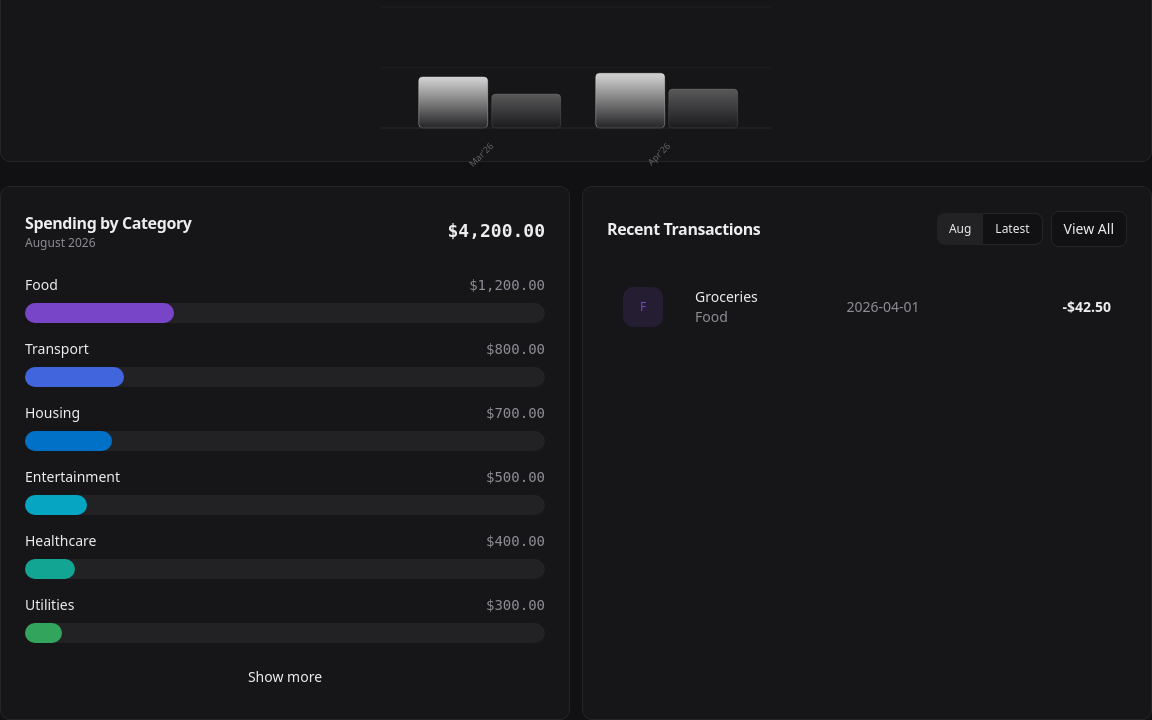
Dashboard › with more than 6 categories › expands to show all categories and "Show less" on click
The width and height of the screenshot is (1152, 720).
(page scrolled)
Step 1. Click the button "Show more" → (285, 677), box [25,659,545,695]
(page scrolled)
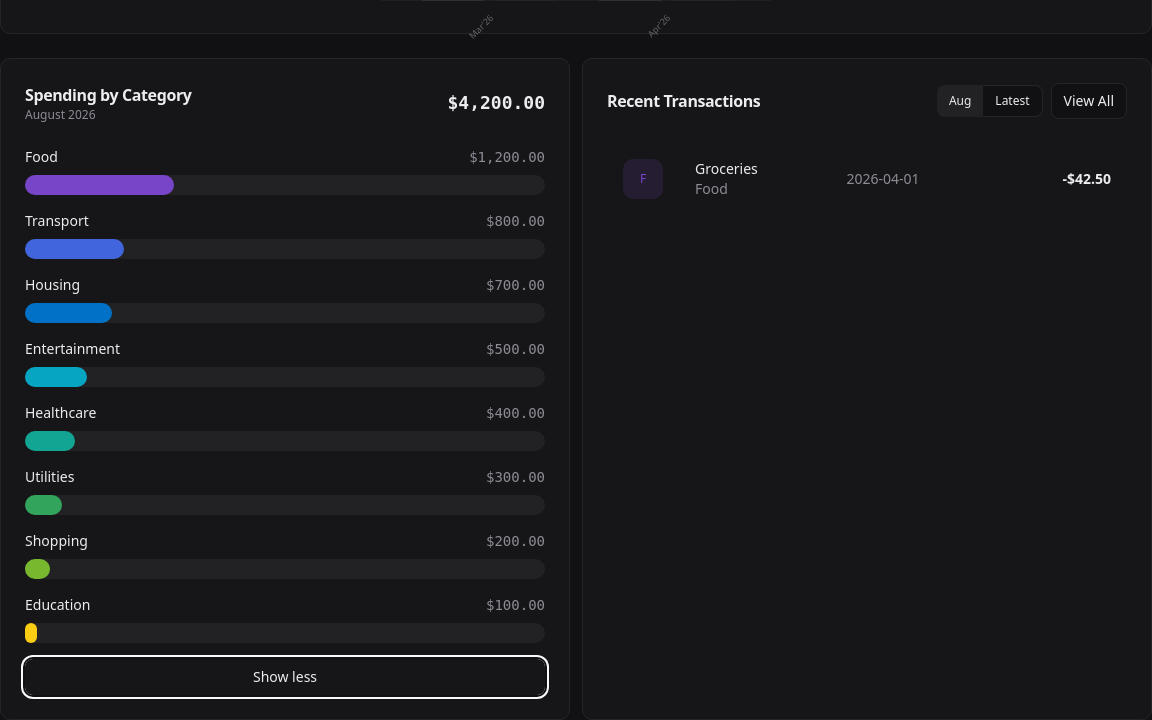
Check: the text "Shopping" is shown, box [25,531,88,551]
Check: the text "Education" is shown, box [25,595,90,615]
Check: the button "Show more" is gone
